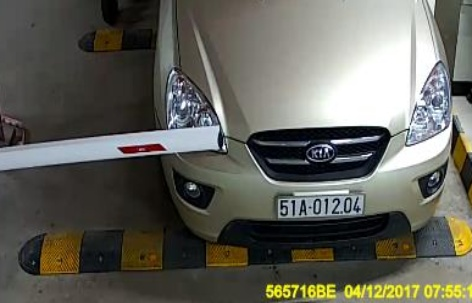plate: (271, 188, 367, 219)
